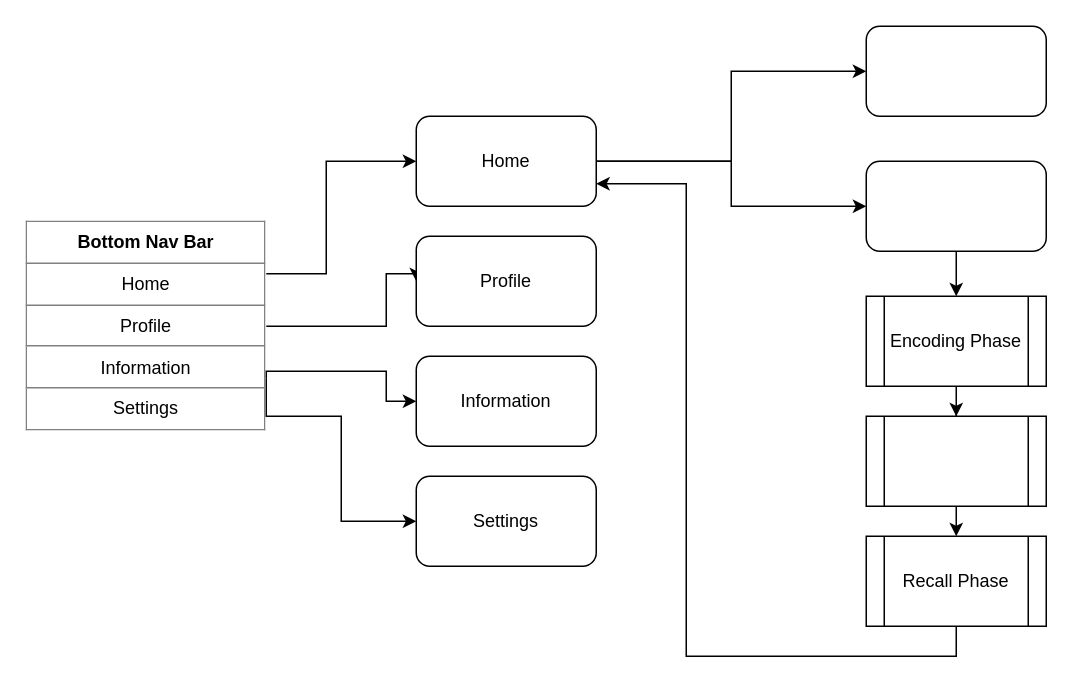
This 1073x695 diagram has some shape labels left out. Here are the shapes that lost their labels. From the top down, the centre of each, then its label:
the point at 955,70: Questionnaire
the point at 955,205: Cognitive Test
the point at 955,460: Distraction Phase
